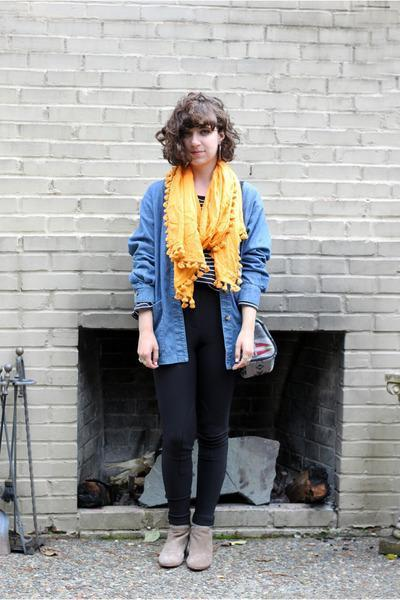bag: (233, 309, 279, 377)
jacket: (128, 180, 271, 368)
pants: (147, 277, 251, 539)
shirt: (197, 244, 218, 286)
shoe: (156, 521, 233, 568)
